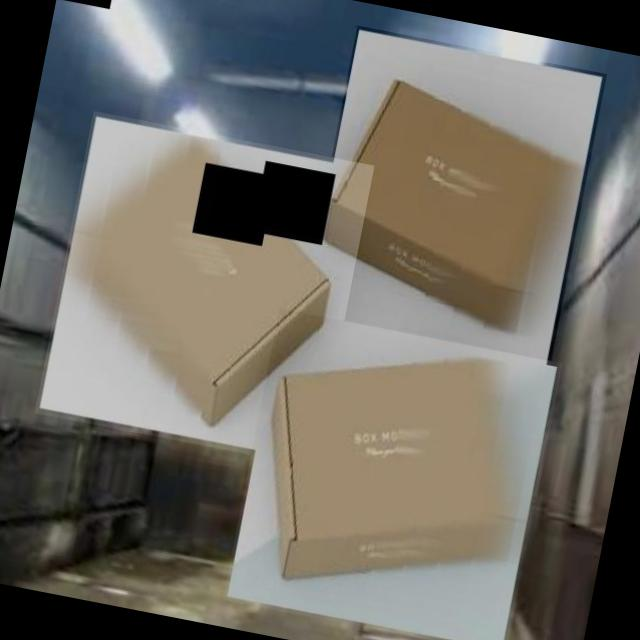box: (34, 111, 374, 468), (223, 309, 562, 640), (300, 25, 607, 370)
